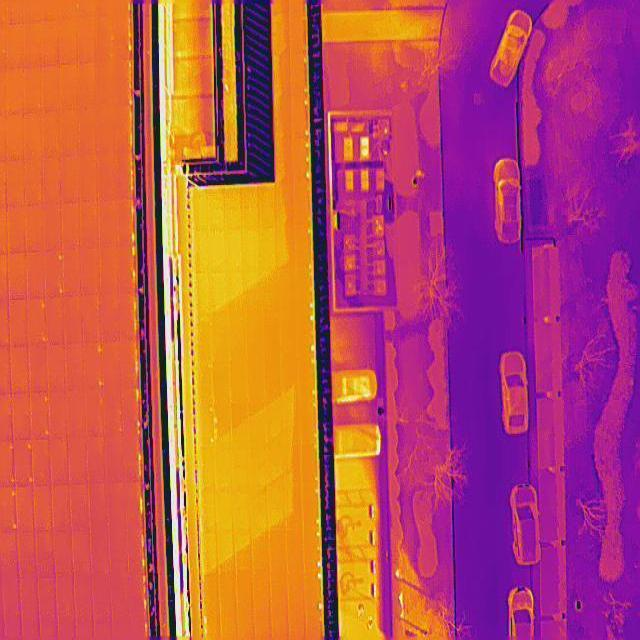Cell-Multi: (30, 391, 50, 440), (14, 439, 33, 489), (113, 13, 132, 62), (115, 200, 134, 248), (28, 300, 47, 346), (85, 342, 104, 388), (127, 575, 146, 621), (113, 60, 132, 106), (116, 246, 135, 290), (46, 252, 63, 298), (122, 388, 139, 432)
No-Anomaly: (41, 66, 63, 115), (5, 160, 26, 210), (95, 14, 117, 61), (78, 105, 98, 156), (86, 435, 107, 483), (7, 251, 27, 301), (5, 22, 25, 72), (90, 529, 110, 579), (42, 154, 61, 206), (61, 156, 81, 205), (79, 13, 99, 62), (23, 20, 43, 69), (109, 530, 129, 579), (98, 200, 119, 246), (40, 20, 61, 66), (59, 18, 79, 66), (68, 390, 88, 438), (105, 435, 125, 483), (89, 481, 109, 529), (25, 158, 44, 208), (63, 248, 82, 298), (101, 292, 120, 342), (73, 530, 92, 580), (59, 62, 78, 112), (95, 106, 114, 155), (103, 340, 122, 389), (19, 578, 40, 622), (1, 578, 22, 622), (7, 206, 27, 252), (10, 348, 30, 394), (38, 576, 58, 622), (77, 62, 97, 108), (25, 206, 44, 254), (83, 246, 102, 294), (64, 295, 83, 343), (4, 67, 23, 115), (96, 155, 116, 200), (83, 294, 101, 344), (10, 300, 30, 345), (18, 530, 36, 580), (7, 114, 26, 161), (28, 250, 46, 299), (70, 484, 90, 528), (92, 576, 112, 620), (110, 578, 130, 622), (12, 394, 31, 440), (60, 108, 78, 156), (62, 204, 80, 252), (54, 530, 72, 578), (96, 61, 114, 109), (23, 66, 41, 114), (30, 347, 49, 392), (103, 390, 122, 435), (66, 344, 84, 391), (48, 346, 67, 390), (43, 204, 61, 250), (47, 297, 65, 343), (49, 392, 67, 438), (33, 485, 51, 531), (16, 486, 34, 532), (36, 530, 54, 576), (79, 154, 96, 202), (42, 111, 60, 155), (81, 202, 99, 246), (107, 482, 125, 526), (53, 484, 71, 528), (25, 112, 42, 158), (101, 245, 118, 291), (33, 439, 50, 485), (56, 579, 75, 620), (75, 579, 94, 620), (70, 438, 87, 483), (51, 438, 68, 483), (86, 391, 103, 435), (123, 436, 139, 482), (128, 530, 144, 575)
Unclassified: (118, 292, 137, 342), (113, 104, 133, 151), (125, 481, 144, 530), (120, 342, 138, 388), (116, 155, 134, 200)
